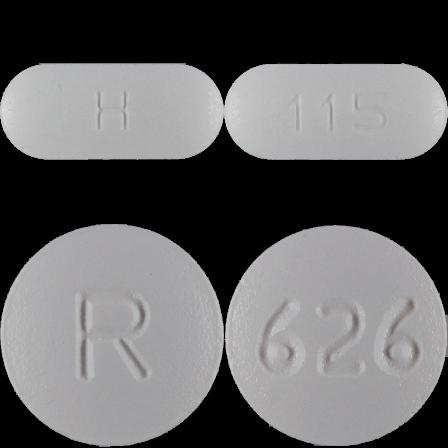68084-057: (0, 0, 224, 224)
